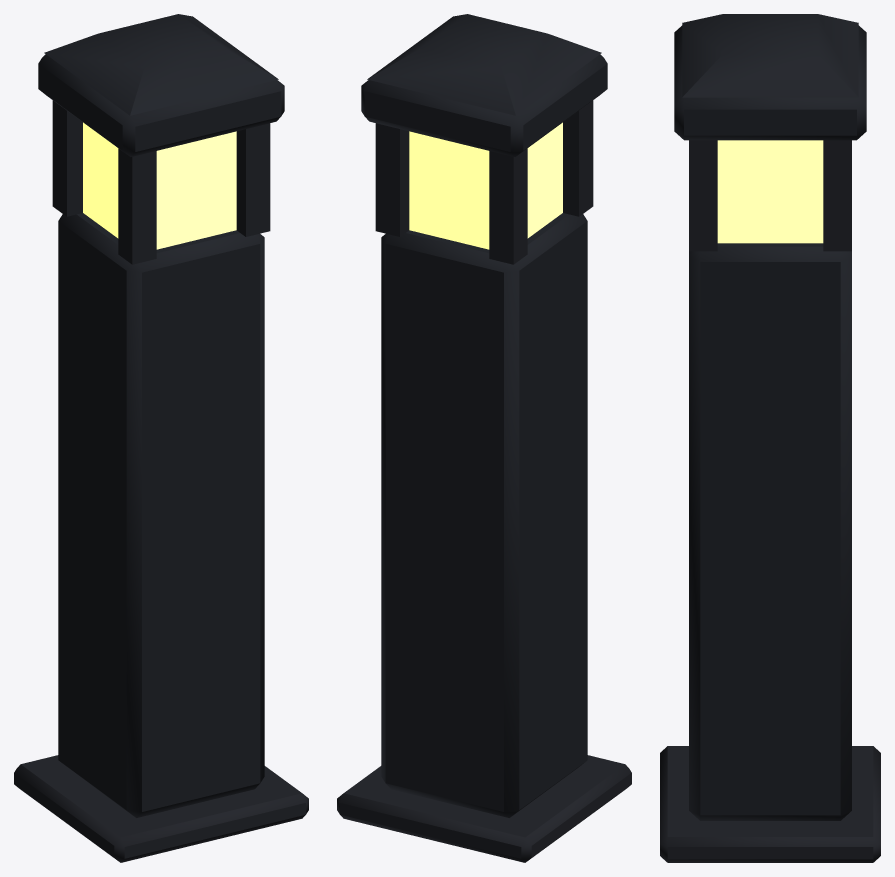
File: bollard.glb
The picture shows the model from 3 angles, left to right: view 1: azimuth 30°, elevation 25°; view 2: azimuth 150°, elevation 25°; view 3: azimuth 270°, elevation 25°; orthographic projection. The views are drawn at different scales.
Parts seen in each view (by area): view 1: body, light; view 2: body, light; view 3: body, light.
Boxes of the visible parts, x1,y1,x2,y2 form: body: (14,14,308,862); light: (83,122,236,249); body: (337,14,631,862); light: (409,122,562,249); body: (660,14,880,862); light: (717,140,823,243).
Size of the model in its own units: 0.24 by 0.9 by 0.23.
